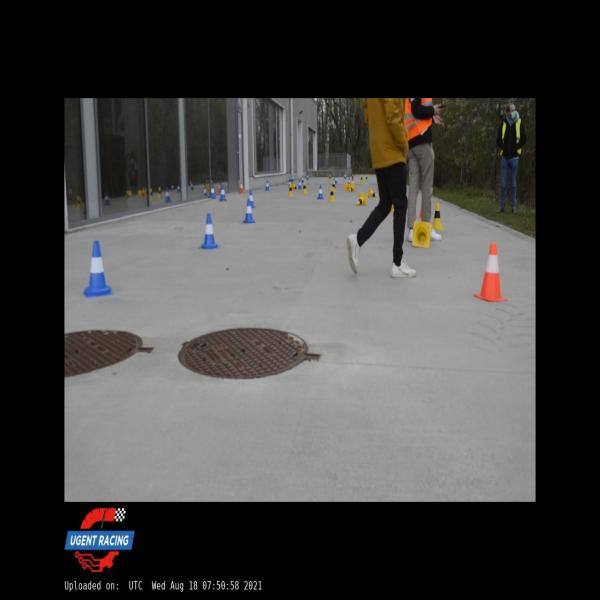blue_cone: (82, 240, 113, 298), (198, 212, 220, 250), (242, 197, 256, 224), (248, 188, 256, 209), (218, 184, 227, 202), (316, 184, 324, 200), (164, 188, 172, 202), (209, 184, 216, 199), (264, 179, 270, 192), (288, 179, 294, 186), (298, 179, 302, 189), (334, 175, 338, 183), (306, 174, 309, 180), (302, 175, 304, 183), (344, 172, 346, 180)
orange_cone: (472, 241, 508, 303), (238, 180, 244, 194)
yellow_cone: (411, 220, 431, 250), (432, 200, 444, 231), (355, 192, 367, 207), (328, 186, 336, 202), (367, 188, 378, 198), (287, 184, 294, 198), (301, 182, 308, 194), (344, 183, 350, 191), (349, 184, 355, 191), (292, 182, 298, 189), (359, 174, 363, 183), (332, 180, 335, 190), (328, 174, 332, 181), (365, 174, 368, 181)
